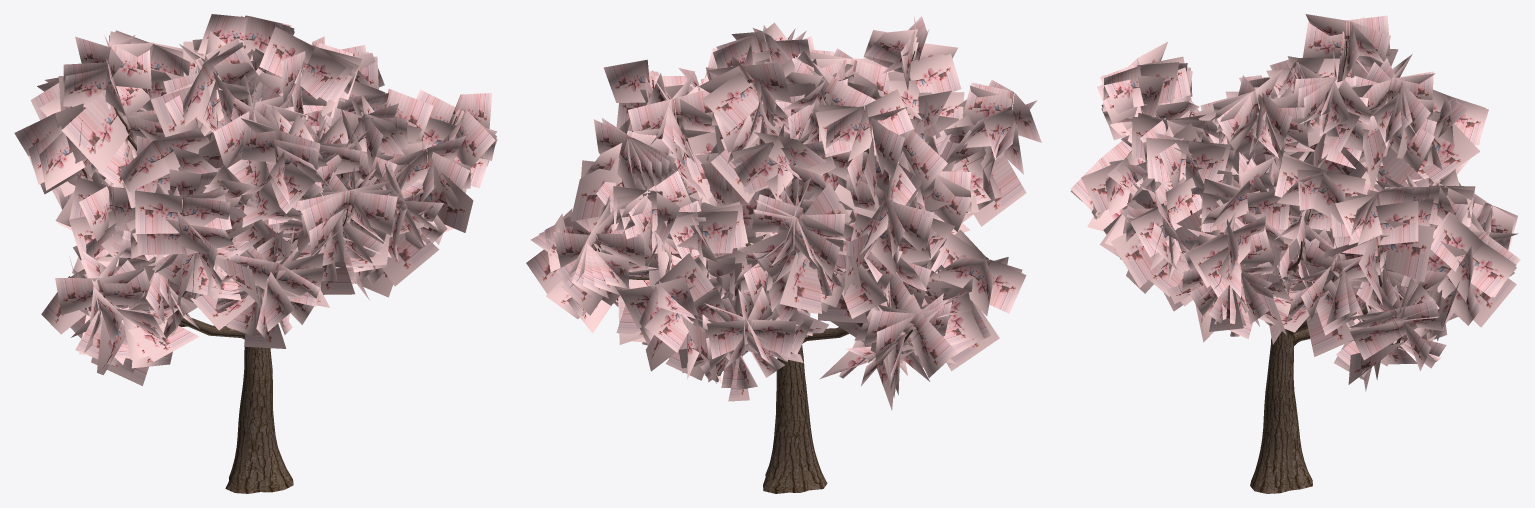
File: sakura.glb
3 views of the same model, side by side, from view 1: azimuth 30°, elevation 25°; view 2: azimuth 150°, elevation 25°; view 3: azimuth 270°, elevation 25° (orthographic). The views are drawn at different scales.
Visible parts, largest first — view 1: Sakura_Sakura_Mat_0, Sakura_Bark001_2K_JPG_Mat_0; view 2: Sakura_Sakura_Mat_0, Sakura_Bark001_2K_JPG_Mat_0; view 3: Sakura_Sakura_Mat_0, Sakura_Bark001_2K_JPG_Mat_0.
Part boxes in pixels (x1,y1,x2,y2): Sakura_Sakura_Mat_0: (14, 14, 497, 385); Sakura_Bark001_2K_JPG_Mat_0: (81, 87, 457, 493); Sakura_Sakura_Mat_0: (526, 16, 1041, 410); Sakura_Bark001_2K_JPG_Mat_0: (598, 51, 927, 493); Sakura_Sakura_Mat_0: (1070, 14, 1520, 391); Sakura_Bark001_2K_JPG_Mat_0: (1190, 41, 1401, 493).
Bounding box in the file's own units: 0.9674 × 1 × 0.9627.
Materials: 2 (2 with a texture image).
